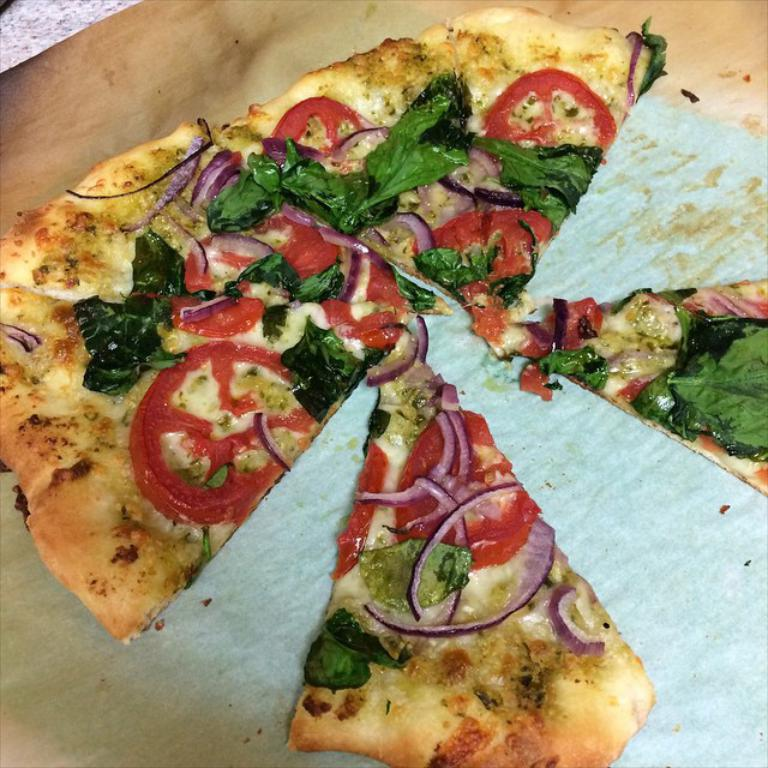Pizza: (0, 122, 418, 646), (286, 355, 657, 766), (238, 0, 666, 340), (457, 272, 765, 498)
